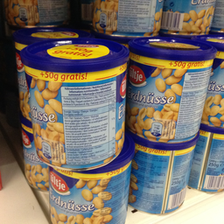nuts: (20, 38, 130, 172), (127, 35, 217, 140), (47, 159, 135, 224), (128, 135, 200, 214)
